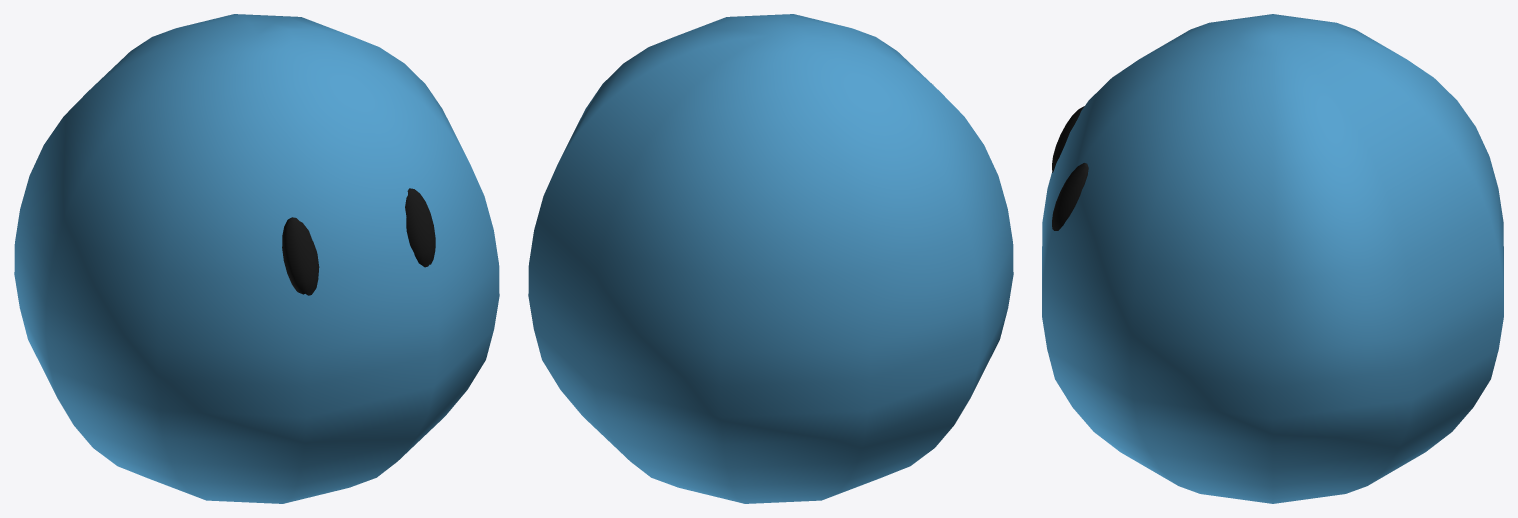
Rendered from slime3.fbx.
The picture shows the model from 3 angles, left to right: view 1: azimuth 30°, elevation 25°; view 2: azimuth 150°, elevation 25°; view 3: azimuth 270°, elevation 25°; orthographic projection.
Visible parts, largest first — view 1: pSphere4; view 2: pSphere4; view 3: pSphere4.
Boxes of the visible parts, x1,y1,x2,y2 form: pSphere4: [14, 14, 499, 503]; pSphere4: [528, 14, 1013, 503]; pSphere4: [1042, 14, 1503, 503].
Size of the model in its own units: 101 by 101 by 96.18.
